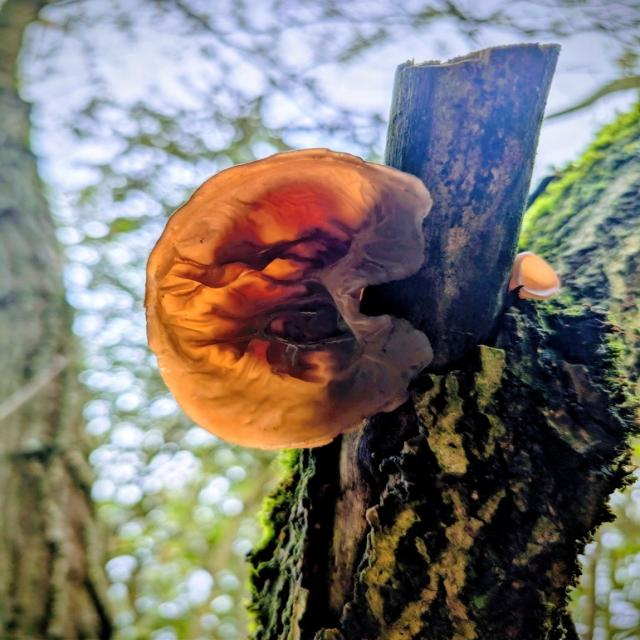Matang: (147, 135, 449, 458)
